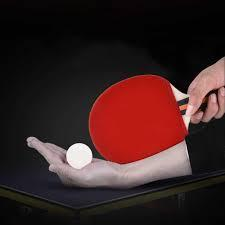ball_pingpong: (67, 143, 93, 169)
